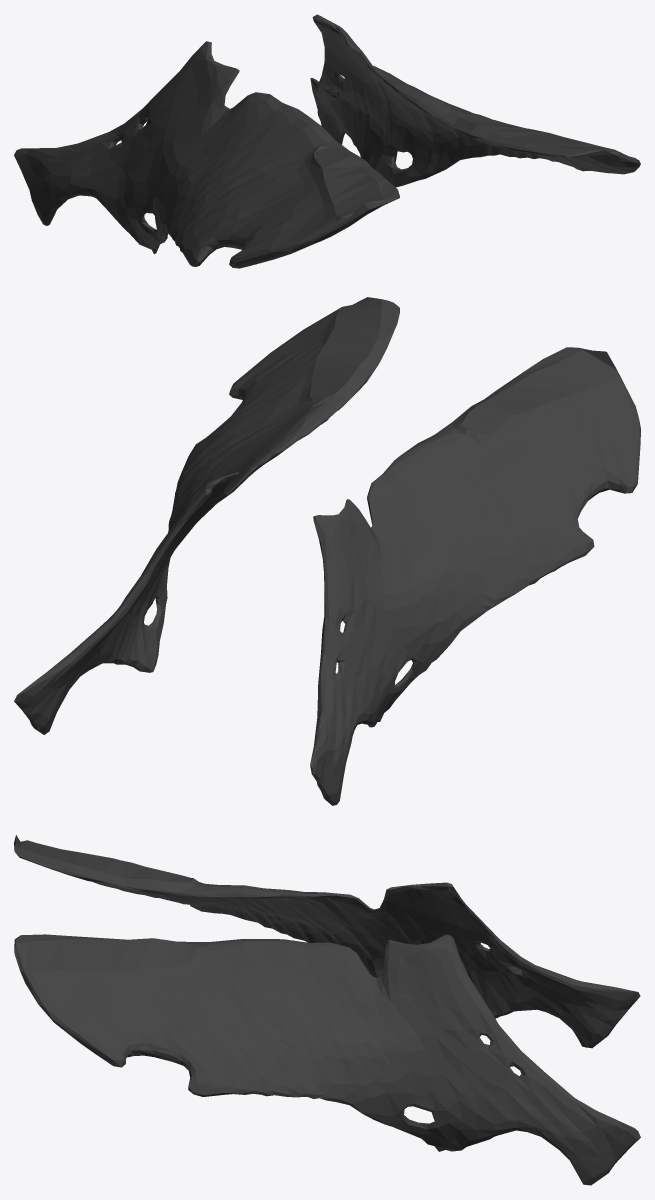
Rendered from lig_sacrosciatic.glb.
3 views of the same model, one above another, from view 1: azimuth 30°, elevation 25°; view 2: azimuth 150°, elevation 25°; view 3: azimuth 270°, elevation 25° (orthographic). The views are drawn at different scales.
Parts seen in each view (by area): view 1: lig_sacrosciatic; view 2: lig_sacrosciatic; view 3: lig_sacrosciatic.
Part boxes in pixels (left/top/right/bottom): lig_sacrosciatic: left=14, top=14, right=640, bottom=268; lig_sacrosciatic: left=14, top=297, right=640, bottom=805; lig_sacrosciatic: left=14, top=835, right=640, bottom=1185.
Size of the model in its own units: 0.00404 by 0.00221 by 0.0056.
1 material, 1 textured.
